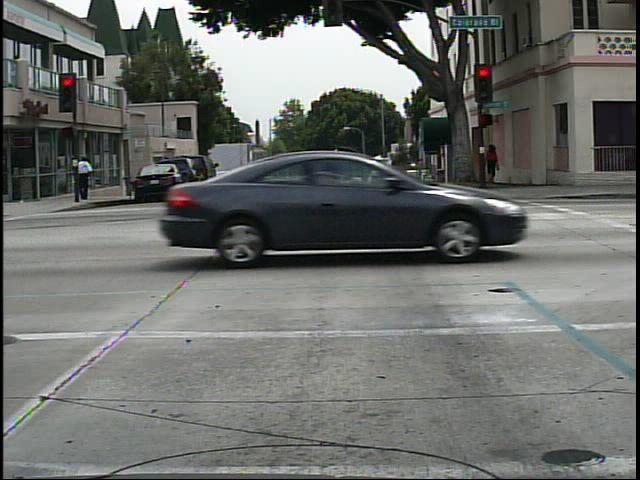person: (486, 139, 506, 190), (78, 150, 95, 201)
